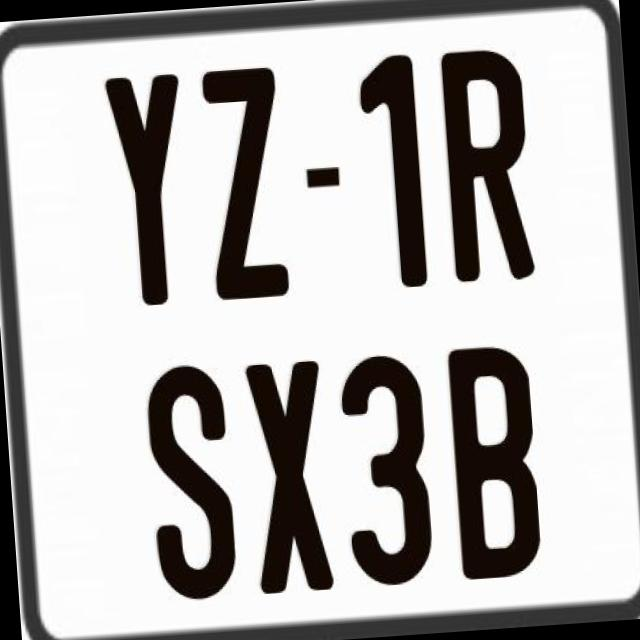1: (353, 52, 427, 287)
3: (334, 352, 436, 592)
B: (444, 342, 544, 581)
R: (436, 48, 540, 290)
S: (144, 356, 245, 604)
X: (244, 358, 335, 596)
Y: (101, 68, 196, 312)
Z: (200, 63, 294, 301)
